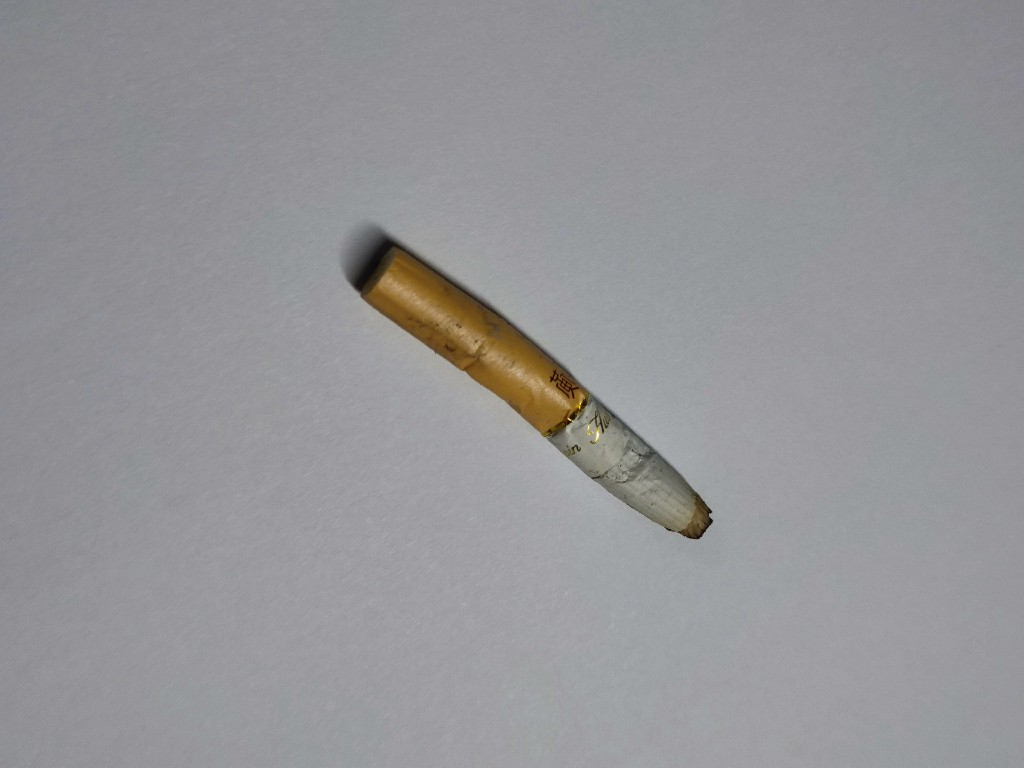cigarette: (357, 241, 718, 548)
